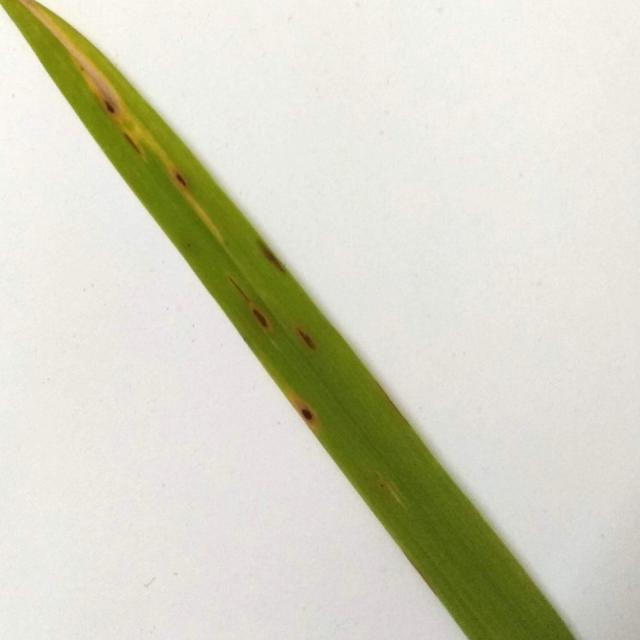Brown spot: (0, 1, 580, 640)
